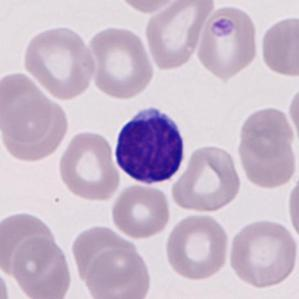Lymphocyte: (109, 102, 191, 189)
Platelets: (209, 14, 237, 41)
RBC: (21, 24, 98, 100), (168, 142, 244, 215), (86, 24, 156, 102), (226, 216, 298, 290), (142, 0, 216, 71), (194, 4, 262, 80), (55, 128, 123, 203), (163, 211, 232, 282), (0, 98, 70, 164), (68, 222, 140, 282), (0, 68, 56, 144), (10, 235, 75, 299), (0, 209, 57, 276), (109, 181, 173, 240), (235, 132, 298, 190), (84, 247, 154, 299), (236, 104, 298, 158), (258, 13, 299, 80), (112, 0, 183, 15), (285, 170, 299, 243), (286, 82, 299, 145), (0, 264, 12, 299)
